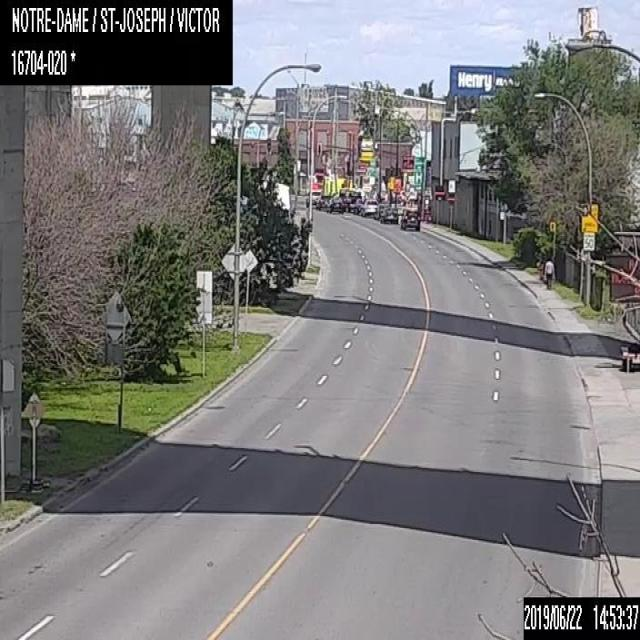construction: (604, 226, 639, 370)
pedestrian: (544, 256, 554, 289)
vehicle: (400, 208, 420, 230), (360, 198, 378, 216), (379, 207, 398, 223), (304, 190, 320, 206), (326, 198, 343, 213), (353, 198, 362, 214)
